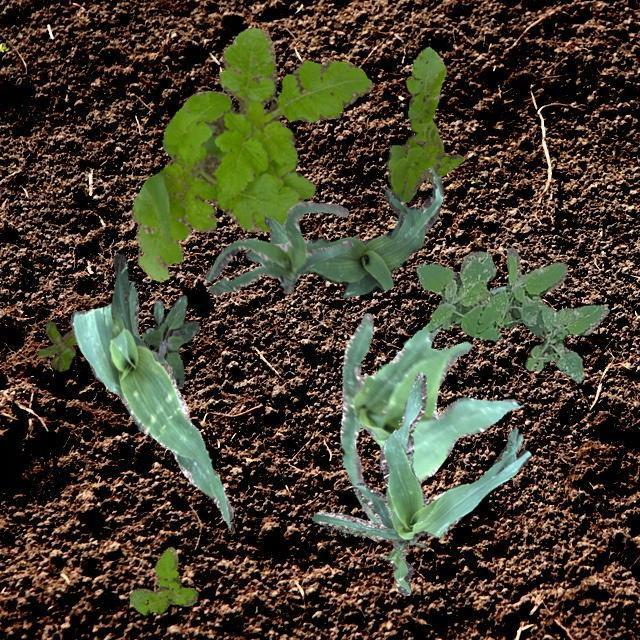crop: (310, 370, 530, 594), (69, 252, 232, 528), (339, 286, 522, 522), (245, 172, 442, 296), (205, 200, 352, 294)
weed: (130, 27, 372, 282), (416, 246, 608, 382), (386, 46, 462, 202), (140, 294, 198, 386), (128, 546, 196, 614), (36, 320, 76, 370)
